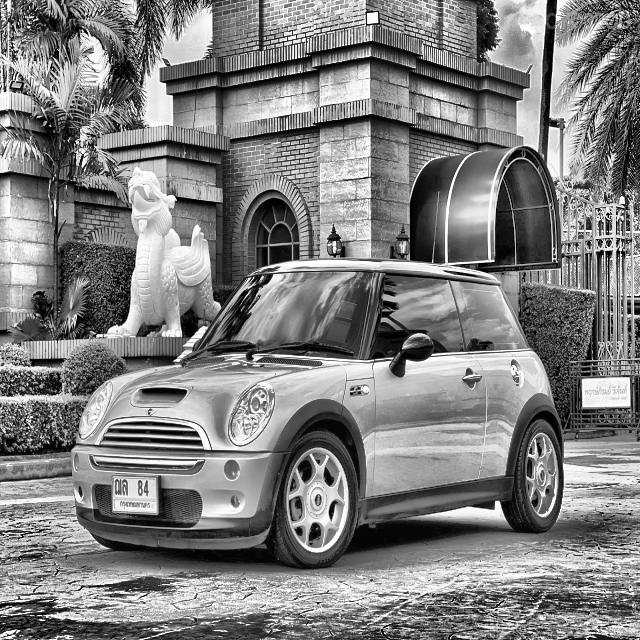license-plate: (110, 470, 160, 514)
